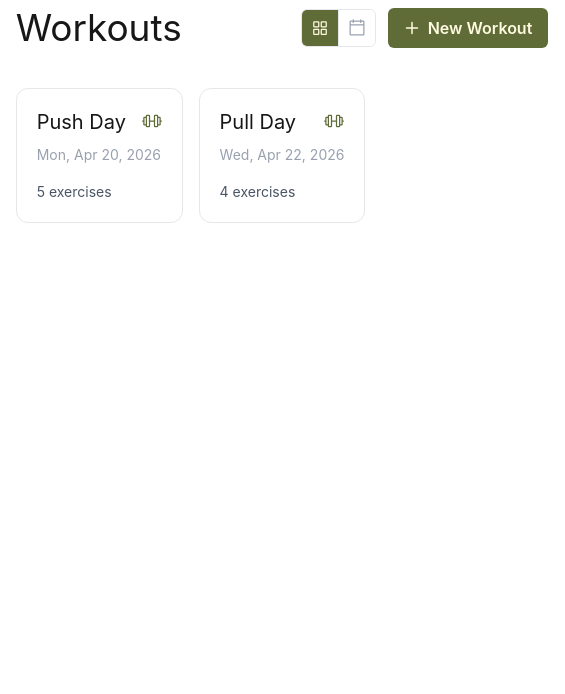
Scenario: WorkoutsView — calendar view › clears the selection when navigating to another month
Step 1. Click the button named "Calendar view" → coordinates (356, 28), box [338, 10, 375, 46]
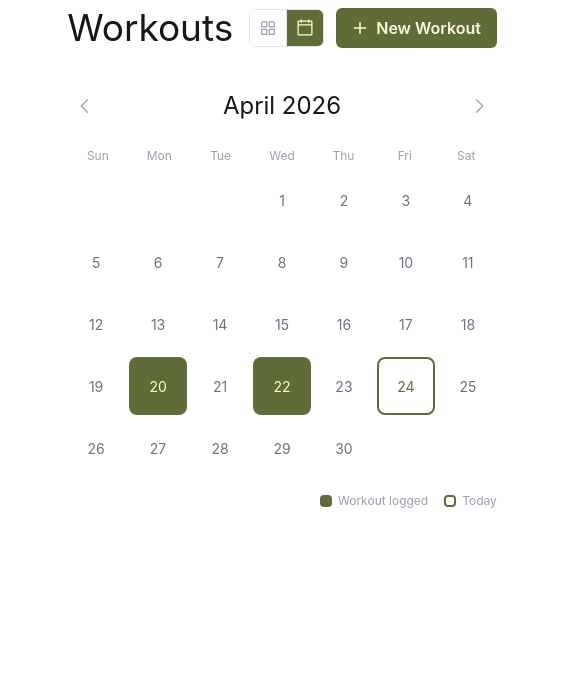
Step 2. Click the button "20" → coordinates (158, 386), box [129, 357, 187, 415]
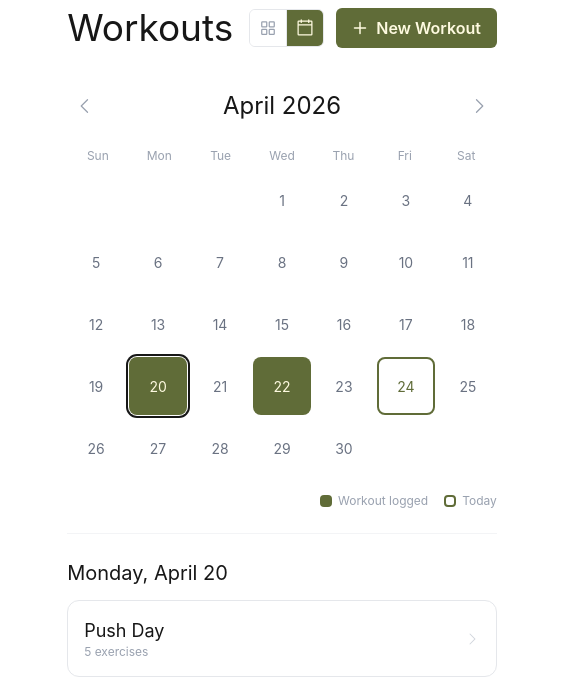
Expected: the heading "Push Day" is shown, [84, 617, 164, 644]
Step 3. Click the button named "Next month" → coordinates (479, 106), box [461, 88, 497, 124]
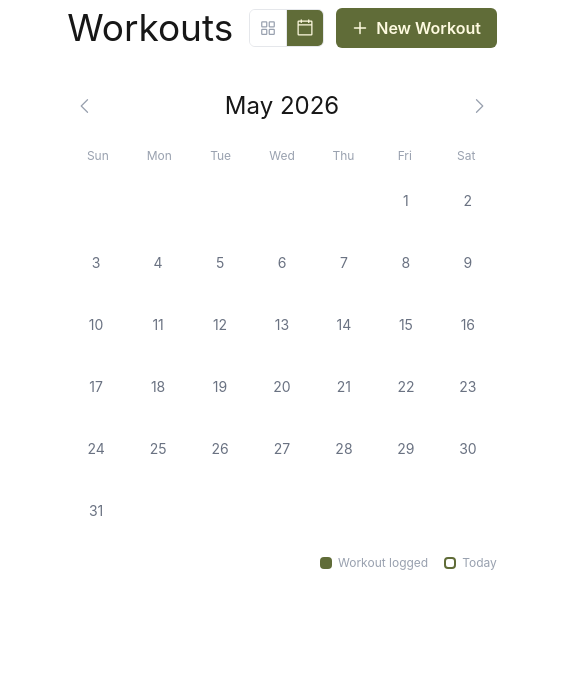
Expected: the link "Push Day" is gone
